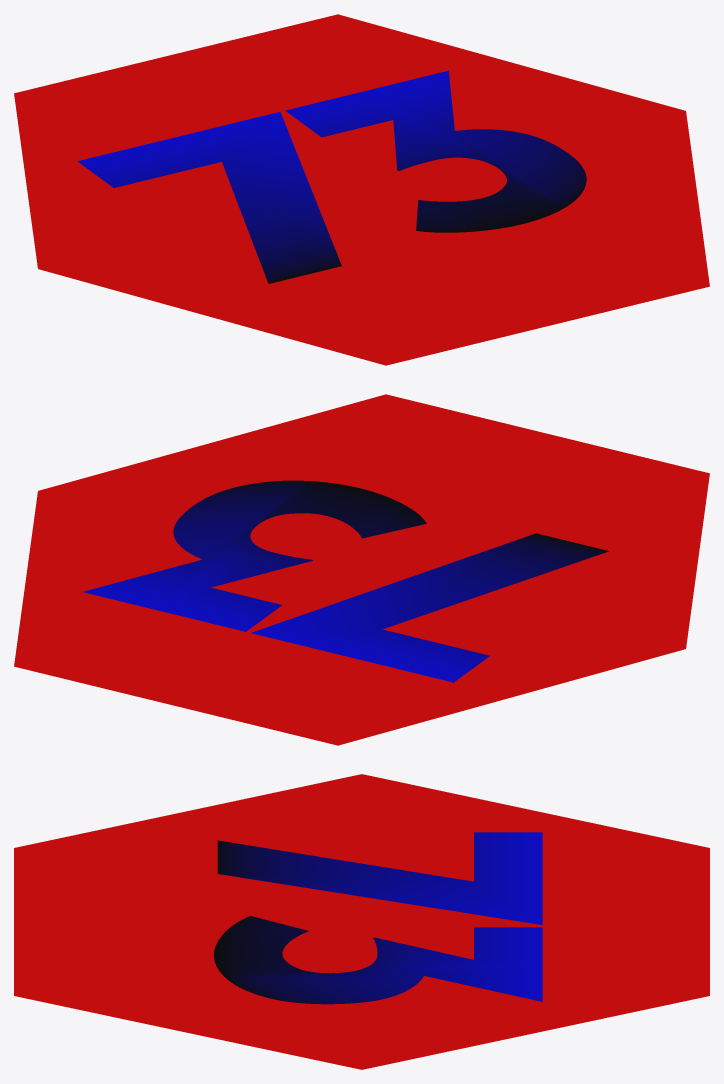
Rendered from SM_Number_73.fbx.
The picture shows the model from 3 angles, top to bottom: view 1: azimuth 30°, elevation 25°; view 2: azimuth 150°, elevation 25°; view 3: azimuth 270°, elevation 25°; orthographic projection. The views are drawn at different scales.
Parts seen in each view (by area): view 1: FBX_OUT; view 2: FBX_OUT; view 3: FBX_OUT.
Boxes of the visible parts, box(x1,y1,x2,y2) form: FBX_OUT: box(14, 14, 709, 365); FBX_OUT: box(14, 394, 709, 745); FBX_OUT: box(14, 774, 709, 1069).
Bounding box in the file's own units: 50 × 0.2917 × 49.71.
